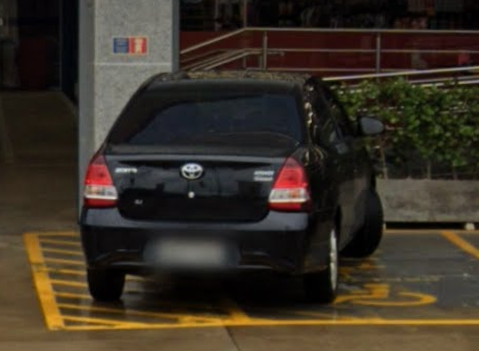car: (73, 66, 387, 314)
